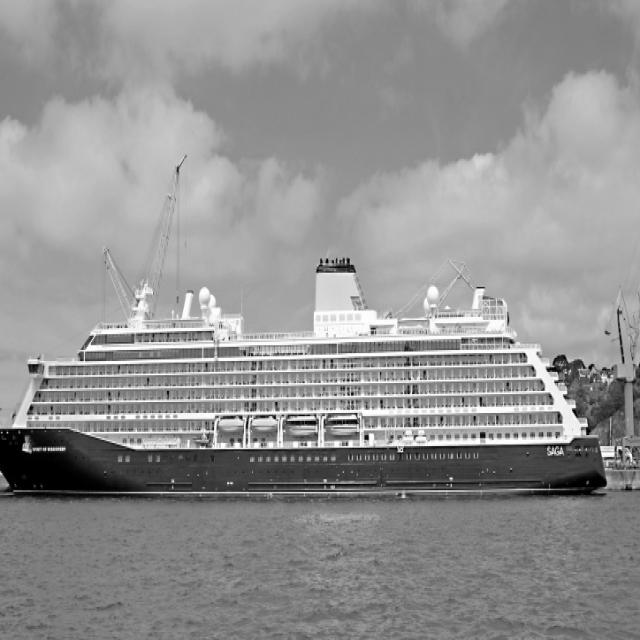cruises: (1, 250, 612, 510)
